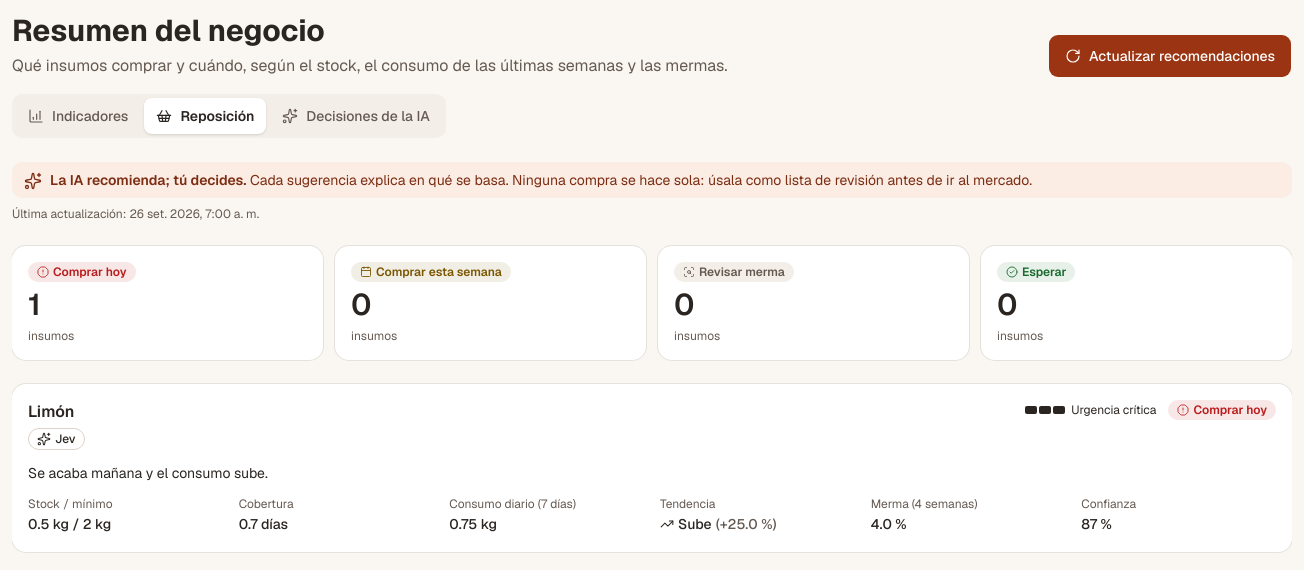
Test: RestockView › «Actualizar recomendaciones» decide de nuevo y muestra lo nuevo
Expected: the heading "Limón" is shown, [28,400,74,422]
Click the button "Actualizar recomendaciones": (1170, 56) [1048,34,1292,78]
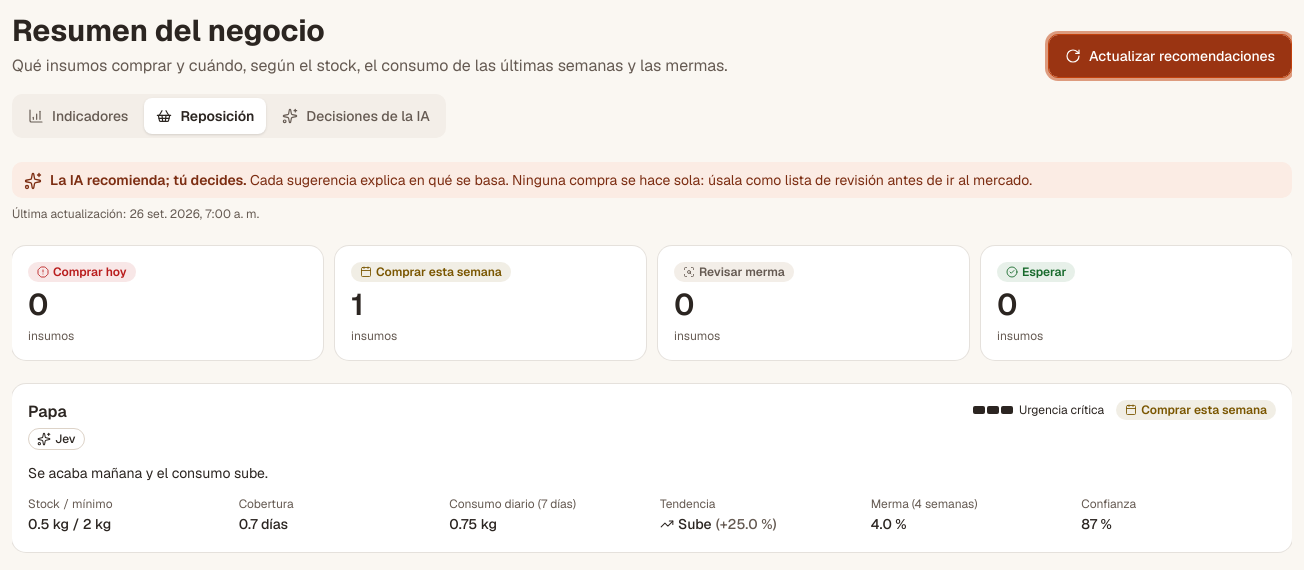
Expected: the heading "Papa" is shown, [28,400,67,422]
Expected: the heading "Limón" is gone
